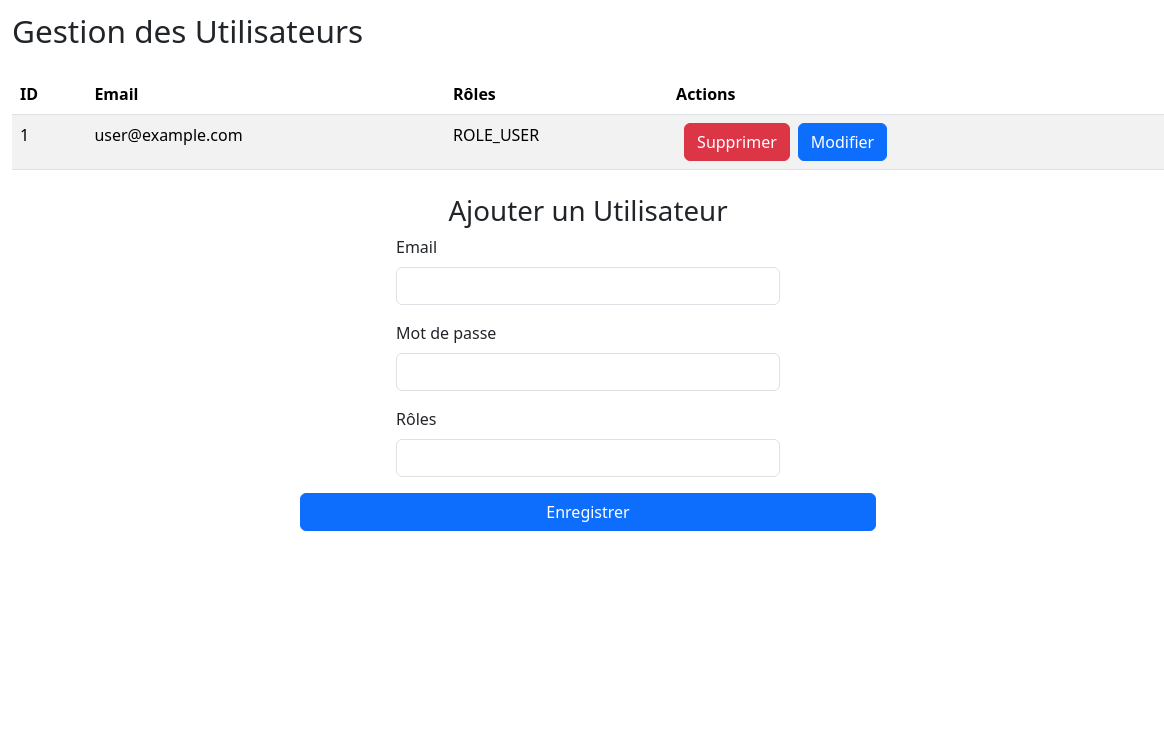
Test case: Users Component › Supprime un utilisateur au clic du bouton
Expected: the text "user@example.com" is shown, [86,114,445,169]
Expected: the text "ROLE_USER" is shown, [445,114,668,169]
Simulation du clic sur le bouton de suppression
Step 1. Click the button "Supprimer" → click(737, 142), box [684,123,790,161]
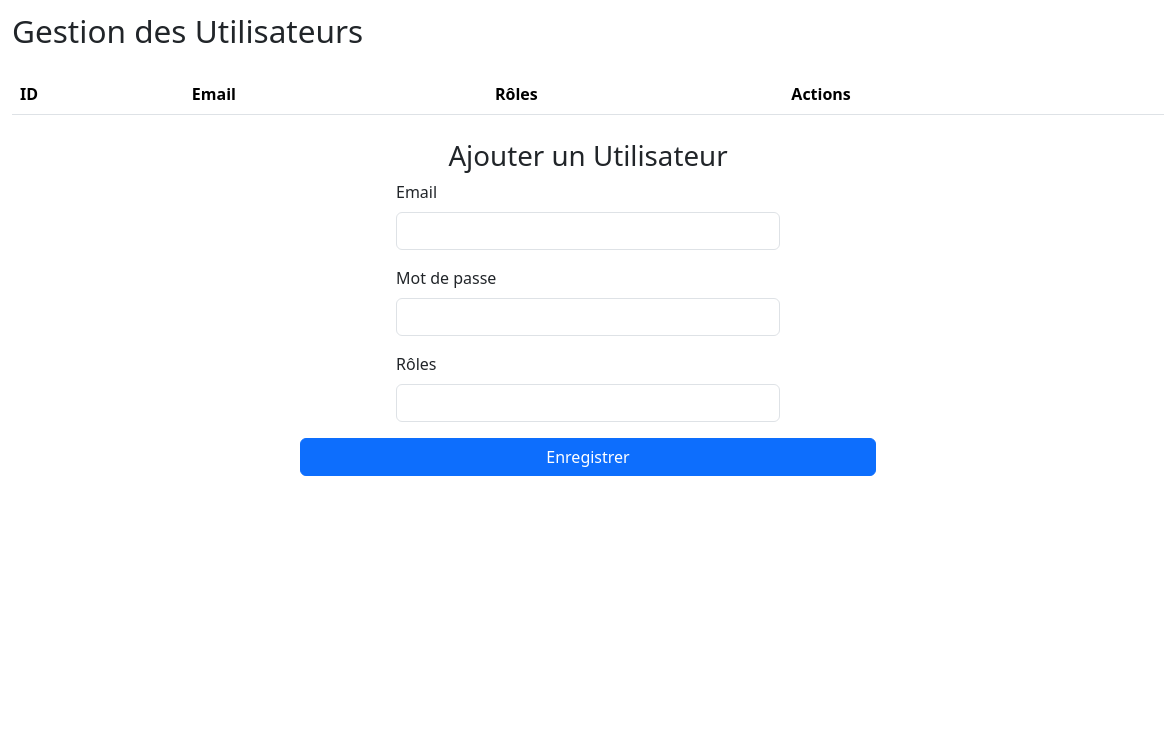
Expected: the text "user@example.com" is gone
